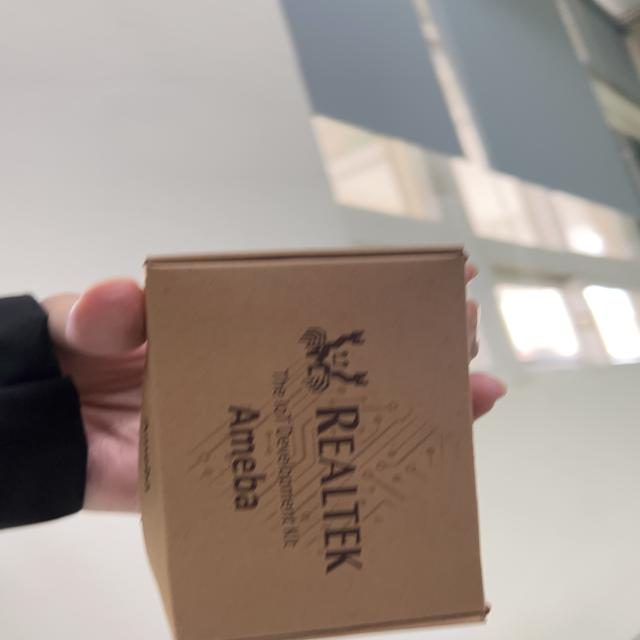box: (91, 244, 539, 640)
